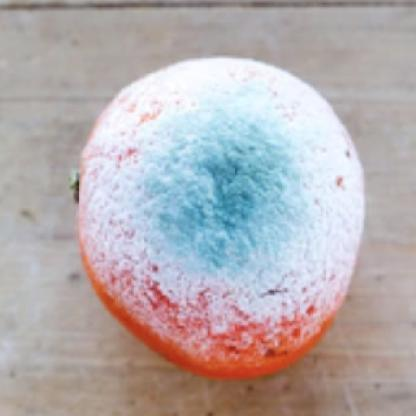rotten: (74, 53, 368, 378)
